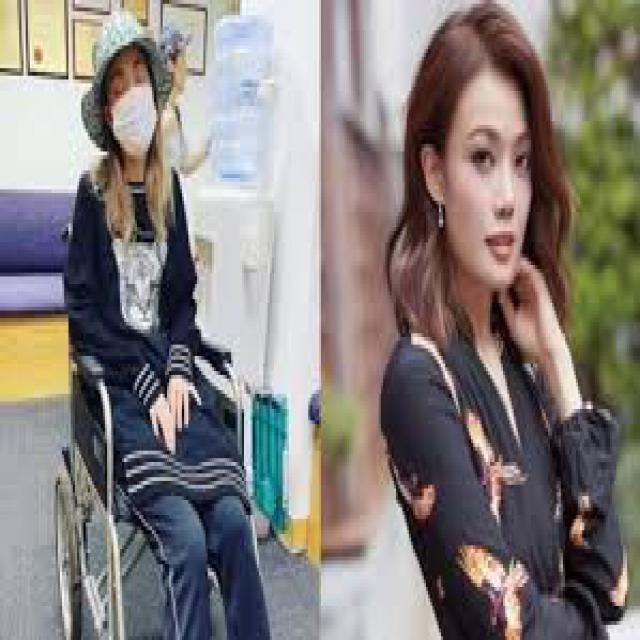wheelchairs: (23, 212, 255, 625)
